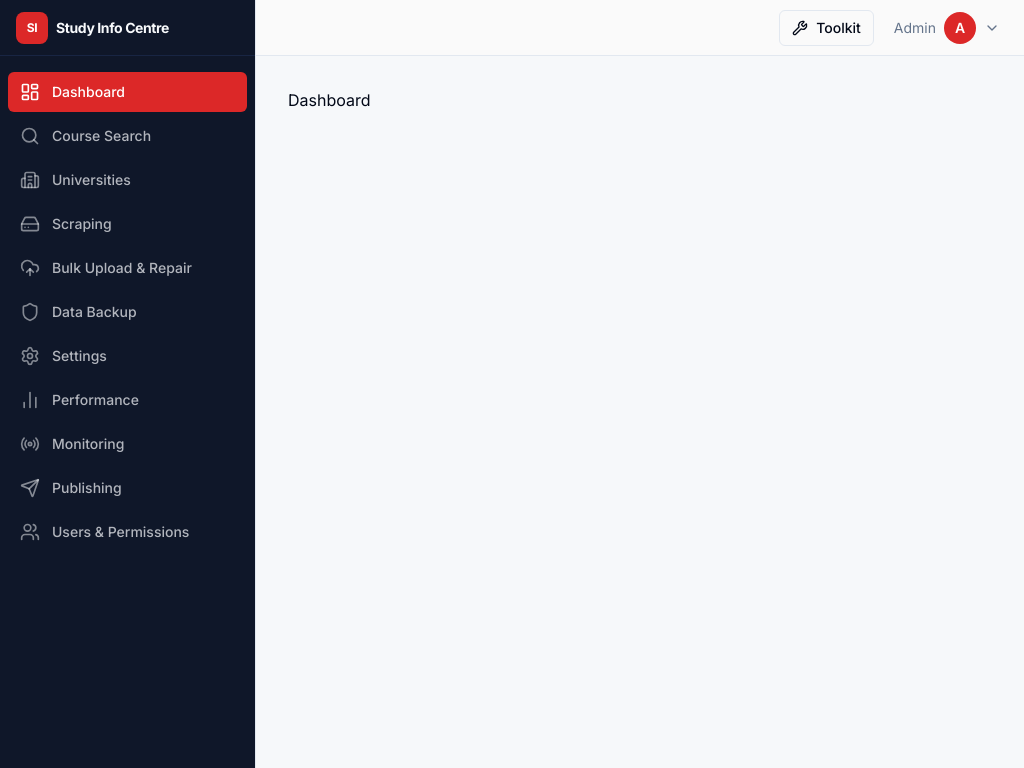
Test: dashboard Toolkit shortcut › navigates to the toolkit without signing out
The width and height of the screenshot is (1024, 768).
Click the link "Toolkit": [826, 28] box [779, 10, 874, 46]
(page scrolled)
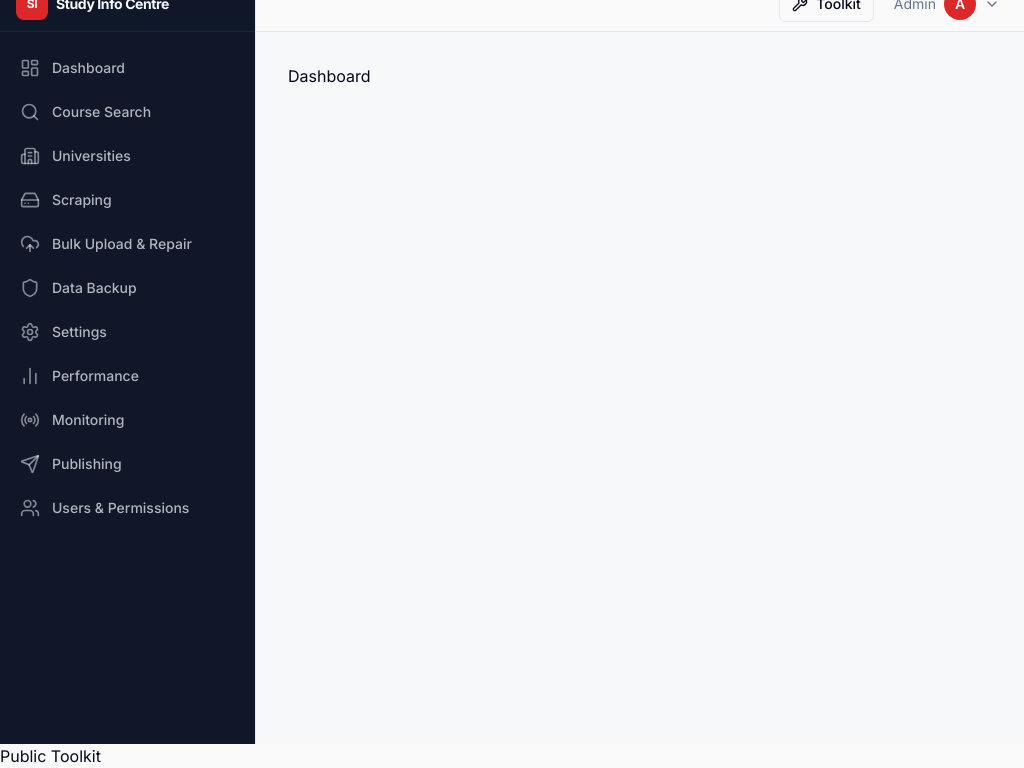
Check: the heading "Public Toolkit" is shown, box [0, 746, 101, 766]
